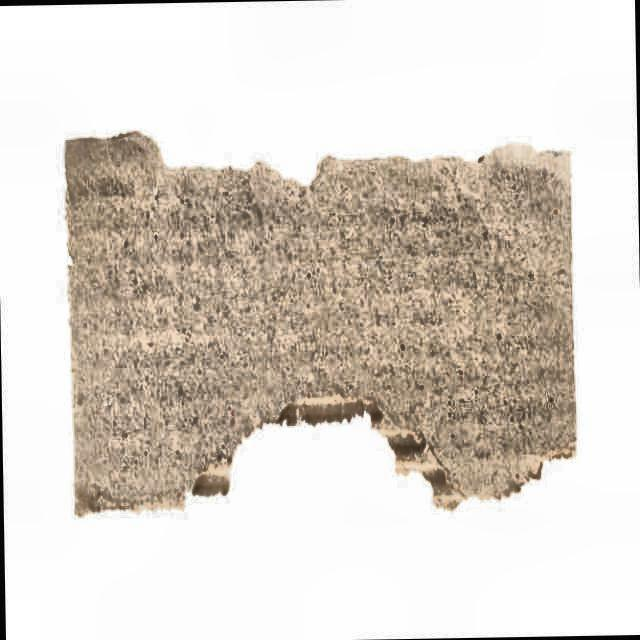cardboard: (60, 130, 581, 517)
